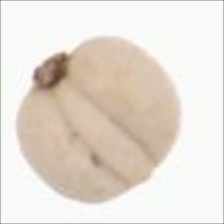L5: (52, 76, 157, 187), (27, 50, 73, 94)
L6: (15, 33, 183, 205)
